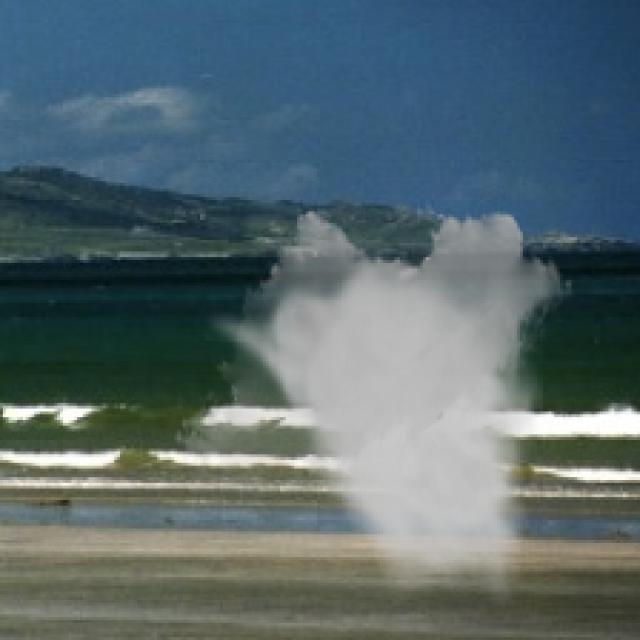smoke: (172, 200, 574, 606)
